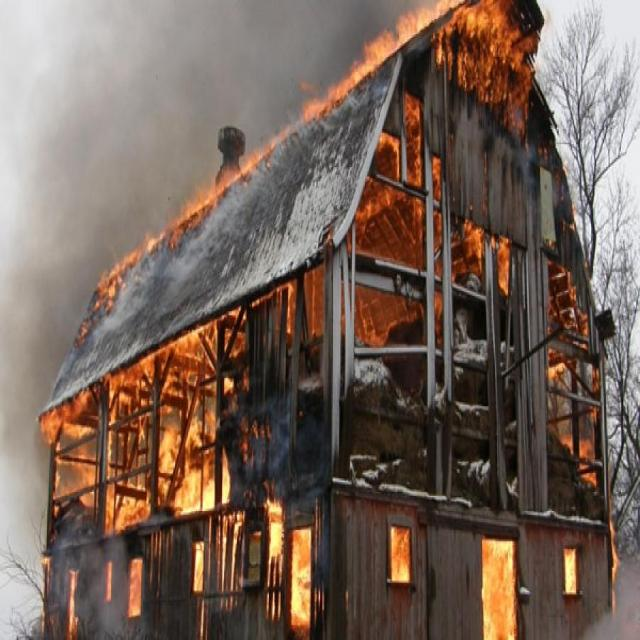fire: (96, 358, 219, 499), (433, 3, 528, 109)
smoke: (96, 12, 327, 84), (45, 107, 208, 207), (26, 227, 76, 330)
